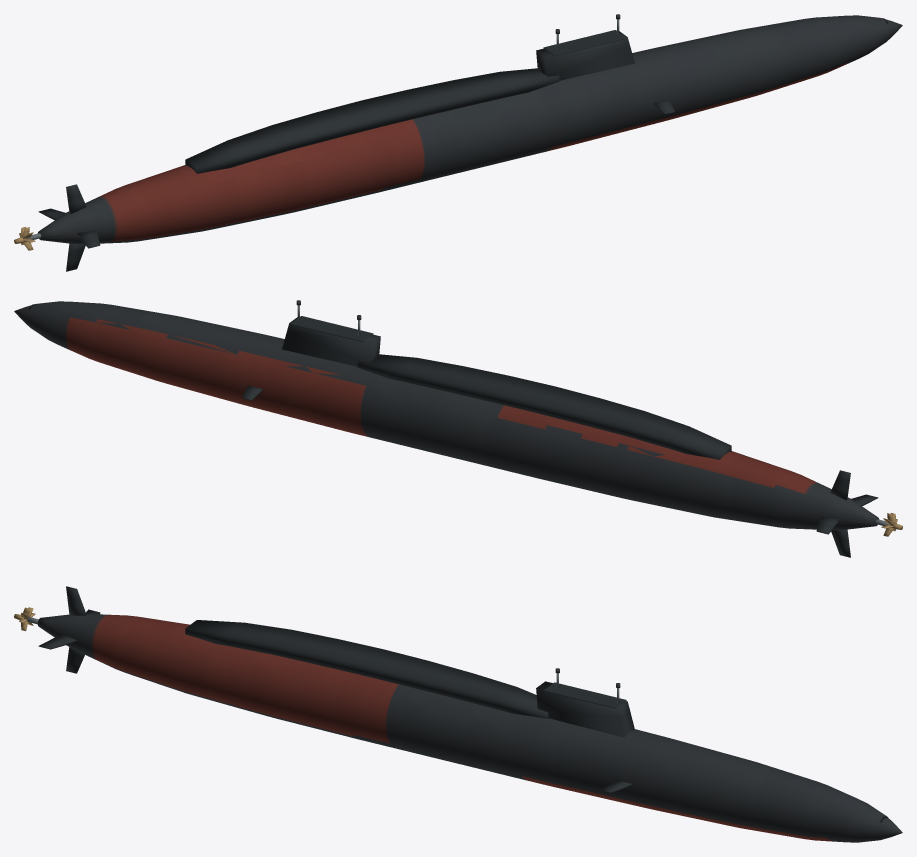
File: UK_SSBN_Resolution_LOD1.fbx
The picture shows the model from 3 angles, top to bottom: view 1: azimuth 30°, elevation 25°; view 2: azimuth 150°, elevation 25°; view 3: azimuth 330°, elevation 25°; orthographic projection.
Visible parts, largest first — view 1: UK_SSBN_Resolution_LOD1; view 2: UK_SSBN_Resolution_LOD1; view 3: UK_SSBN_Resolution_LOD1.
Part boxes in pixels (bbox=[...]): UK_SSBN_Resolution_LOD1: bbox=[14, 14, 902, 271]; UK_SSBN_Resolution_LOD1: bbox=[14, 300, 902, 557]; UK_SSBN_Resolution_LOD1: bbox=[14, 586, 902, 842].
Size of the model in its own units: 134 by 16.71 by 17.53.
6 materials, 1 textured.
